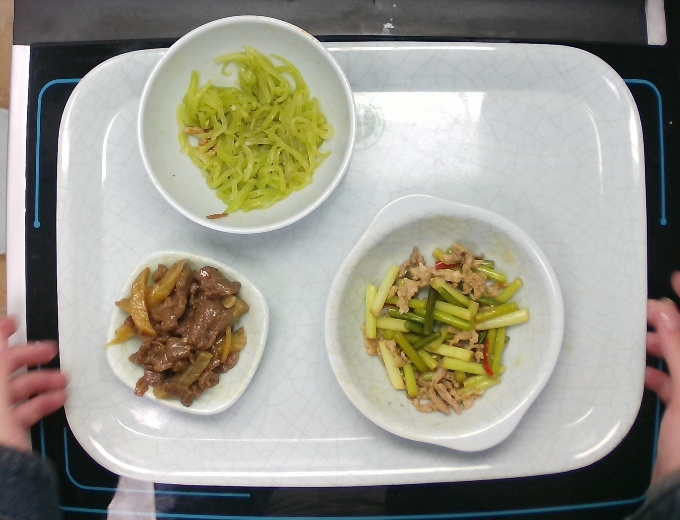JYsf-Fan_Wan: (135, 13, 358, 236)
JYsf-Shuang_Er_Wan: (323, 192, 568, 454)
JYsf-Si_Fang_Die: (105, 249, 272, 418)
